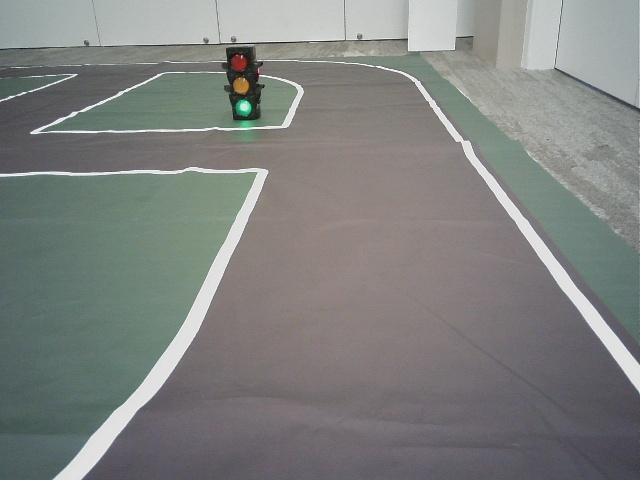green: (228, 46, 255, 115)
